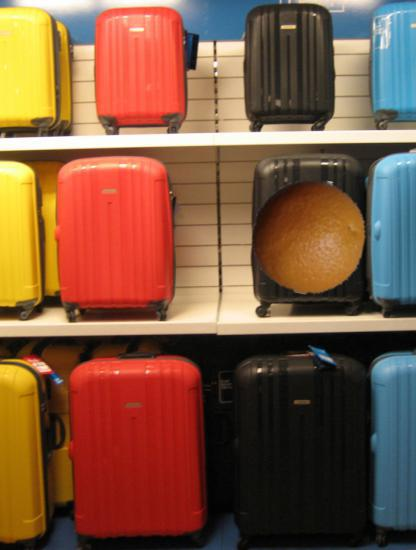Orange: (250, 178, 367, 295)
